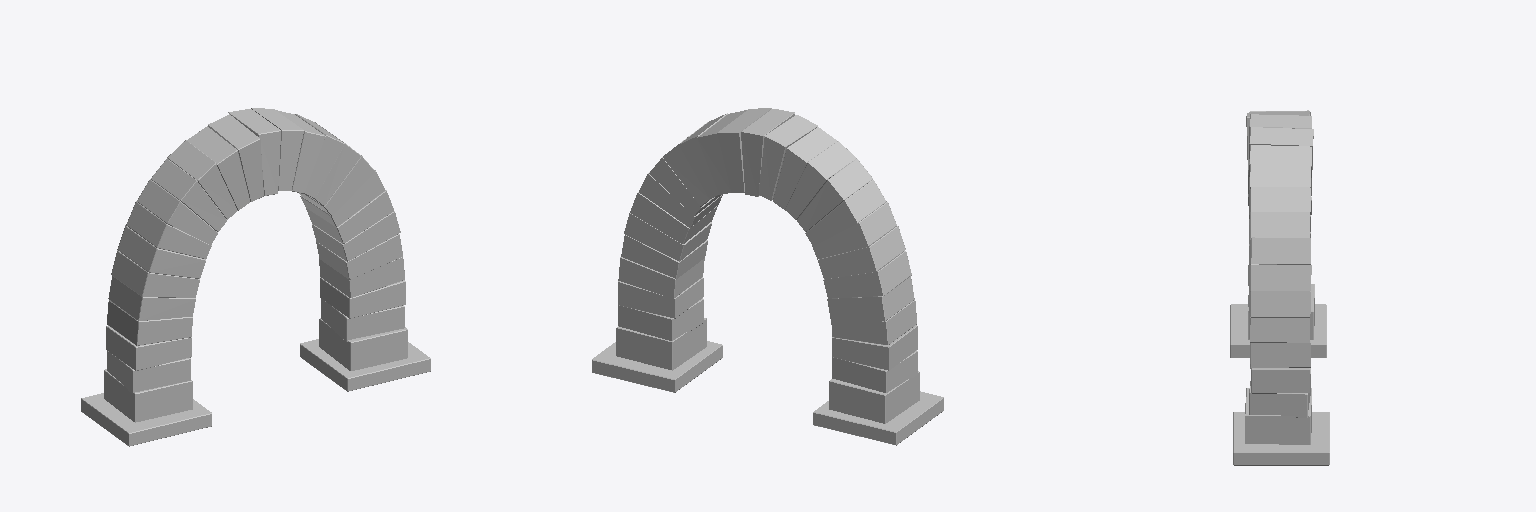
Rendered from archway.obj.
The picture shows the model from 3 angles: view 1: azimuth 30°, elevation 25°; view 2: azimuth 150°, elevation 25°; view 3: azimuth 270°, elevation 25°; orthographic projection.
Visible parts, largest first — view 1: Cube.013_Cube.041; view 2: Cube.013_Cube.041; view 3: Cube.013_Cube.041.
Boxes of the visible parts, x1=… form: Cube.013_Cube.041: x1=81, y1=108, x2=430, y2=446; Cube.013_Cube.041: x1=592, y1=108, x2=943, y2=445; Cube.013_Cube.041: x1=1230, y1=110, x2=1329, y2=465.
Size of the model in its own units: 7.26 by 6.2 by 2.06.